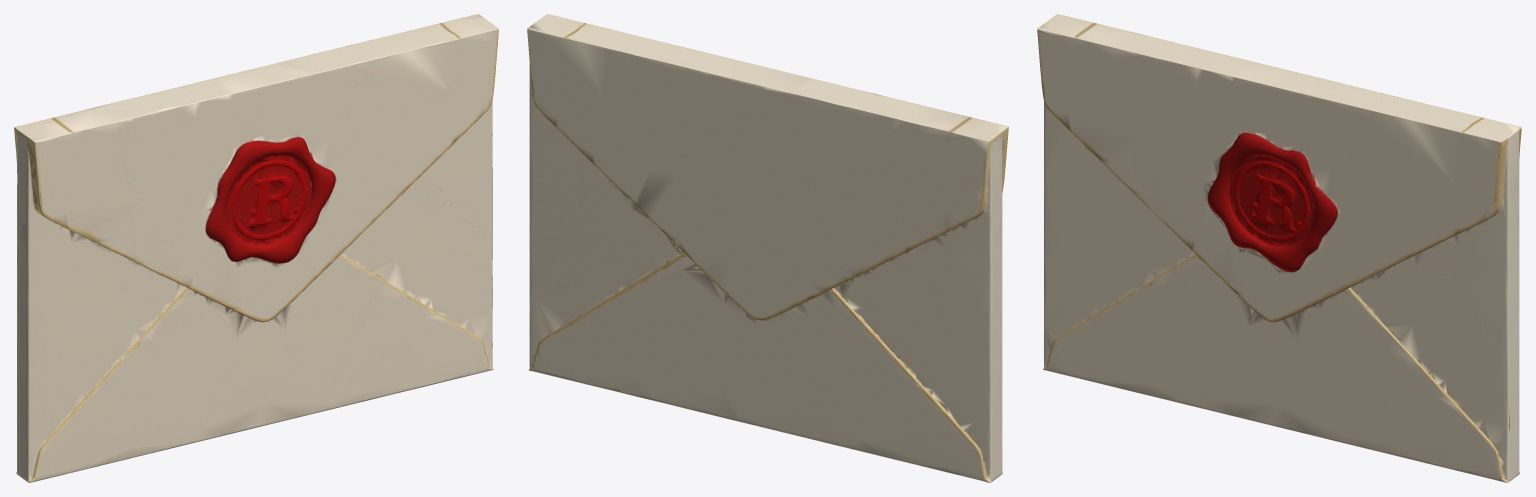
The model's file is letter.glb.
3 renders of one model, left to right at view 1: azimuth 30°, elevation 25°; view 2: azimuth 150°, elevation 25°; view 3: azimuth 330°, elevation 25°, orthographic.
Bounding box in the file's own units: 1.9 × 1.35 × 0.1731.
1 material, 1 textured.
